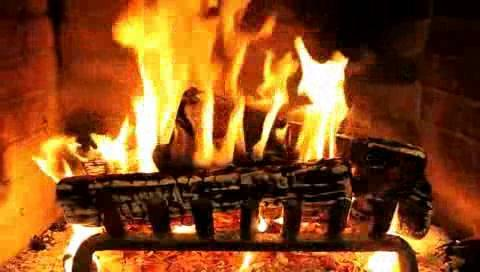fire: (112, 4, 349, 172)
